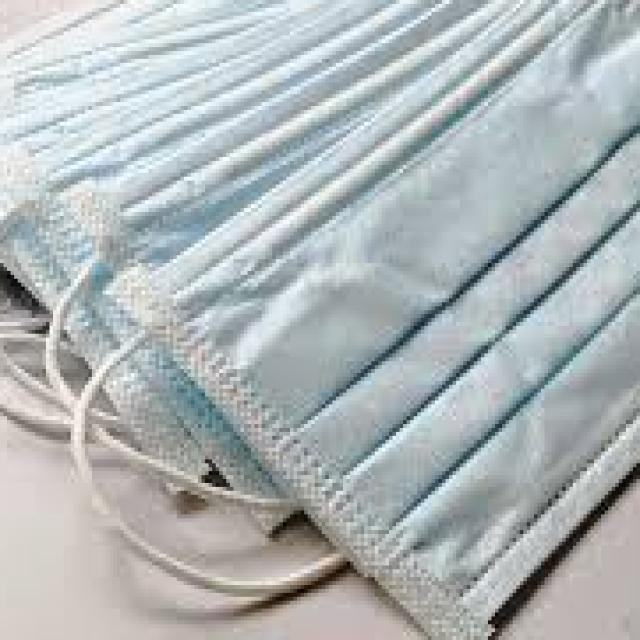organic: (16, 14, 625, 620)
